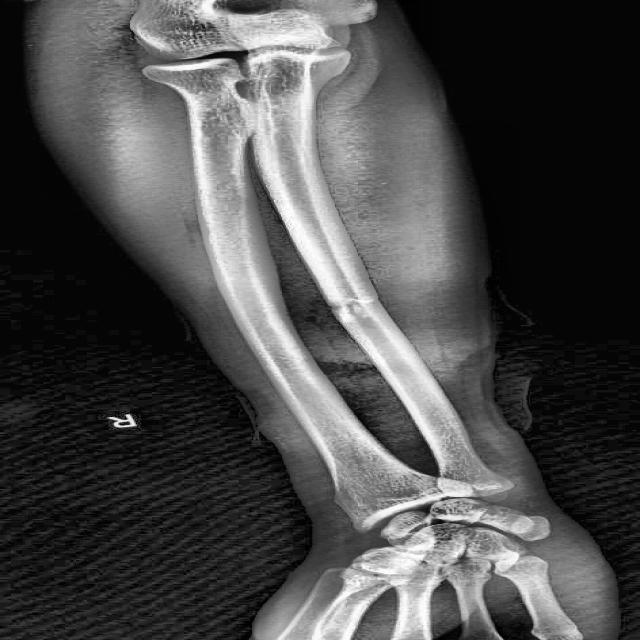fracture: (324, 292, 387, 316)
